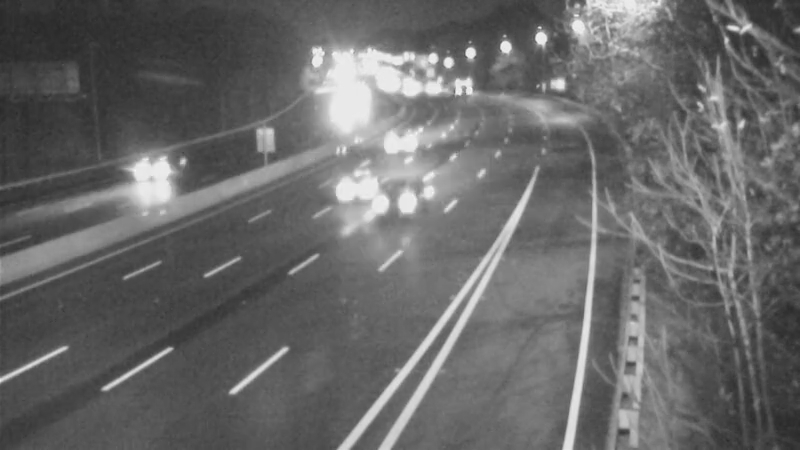vehicle: (319, 137, 399, 217), (369, 163, 449, 243), (104, 136, 184, 216), (381, 107, 431, 157)
